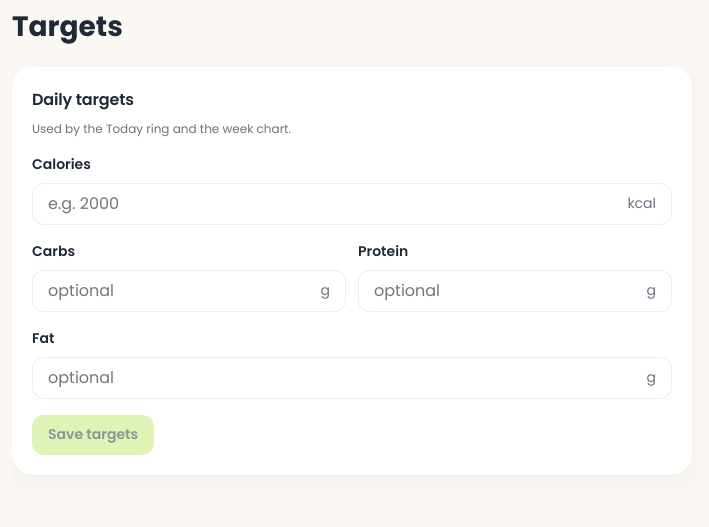
Test: TargetsPage › shows an error when saving fails
Step 1. Type "2000" into the field labelled "Calories" → (334, 204), box [48,183,619,224]
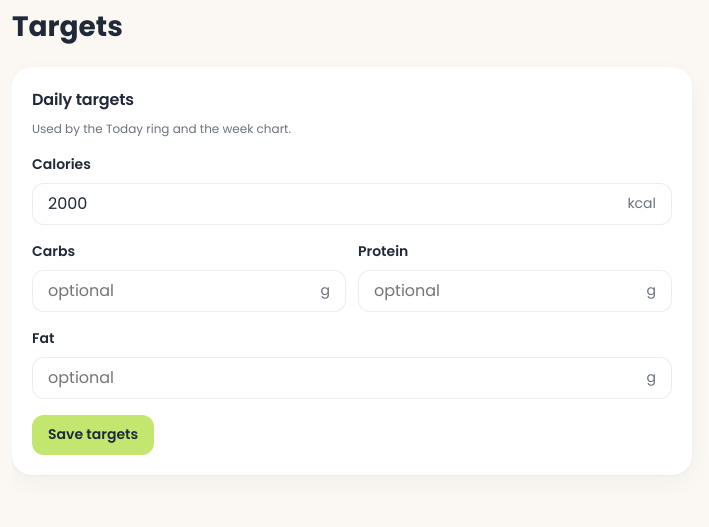
Step 2. Click the button "Save targets" → (93, 434), box [32,414,154,454]
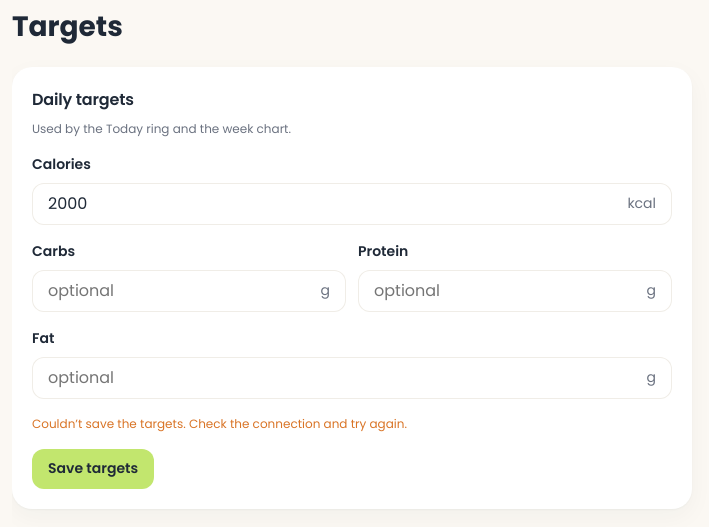
Now the message shows "Couldn’t save", box [32,414,407,432]
